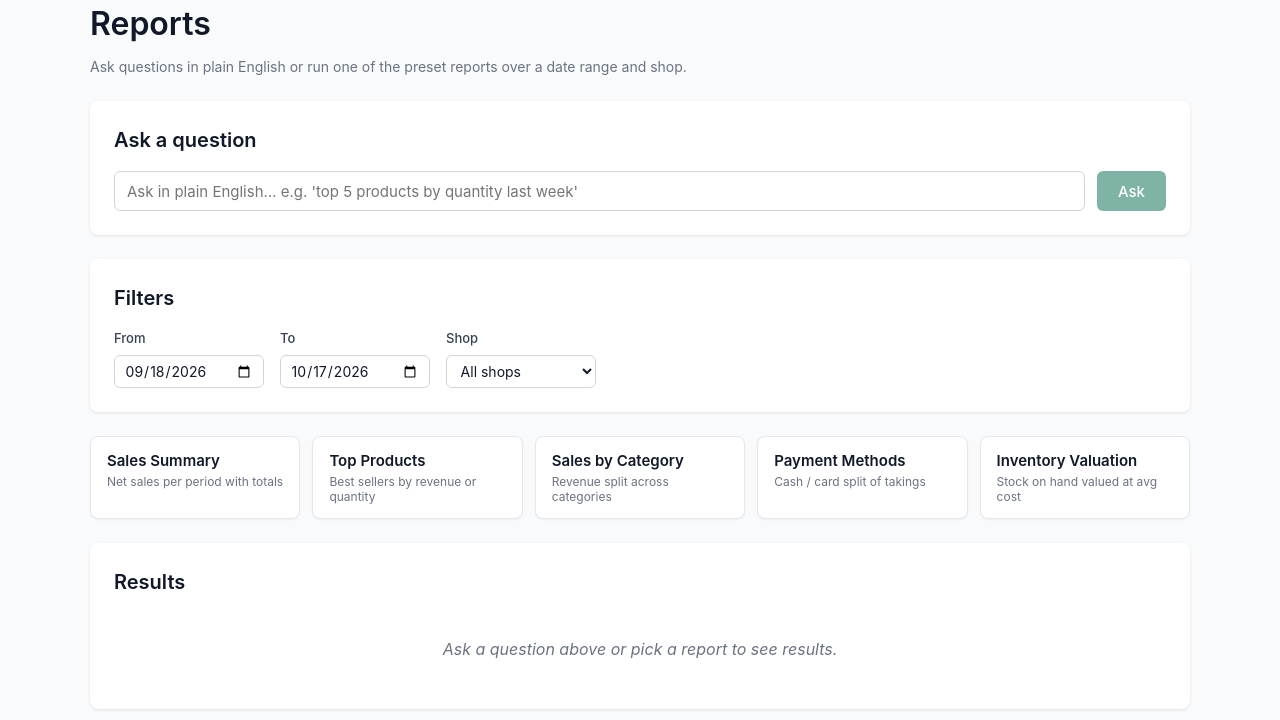
Test: Reports page › omits shopId for All shops and sends it when a shop is selected
This screenshot has width=1280, height=720.
Select "Main Store" in the dropdown labelled "Shop" at {"x": 521, "y": 372}, box [446,355,596,388]
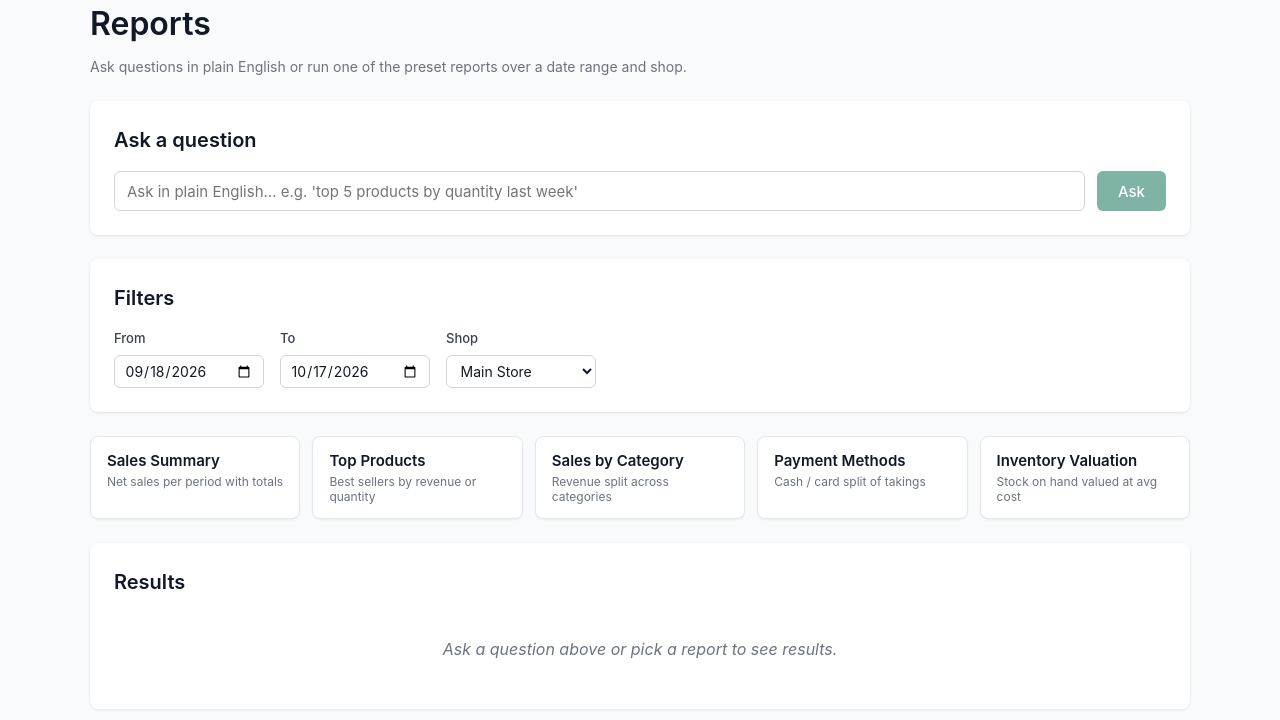
Click the button "Payment Methods Cash / card split of takings" at {"x": 862, "y": 478}, box [757,436,968,520]
(page scrolled)
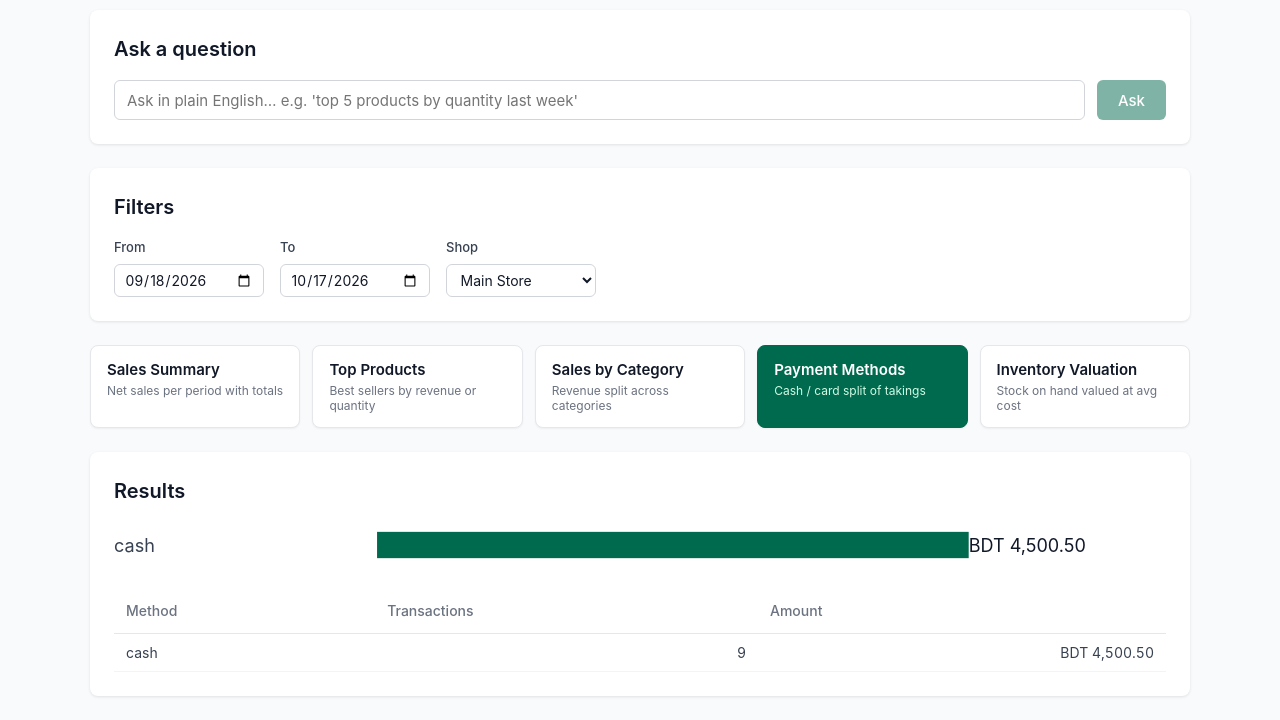
Expected: the text "BDT 4,500.50" is shown, [758,634,1166,672]
